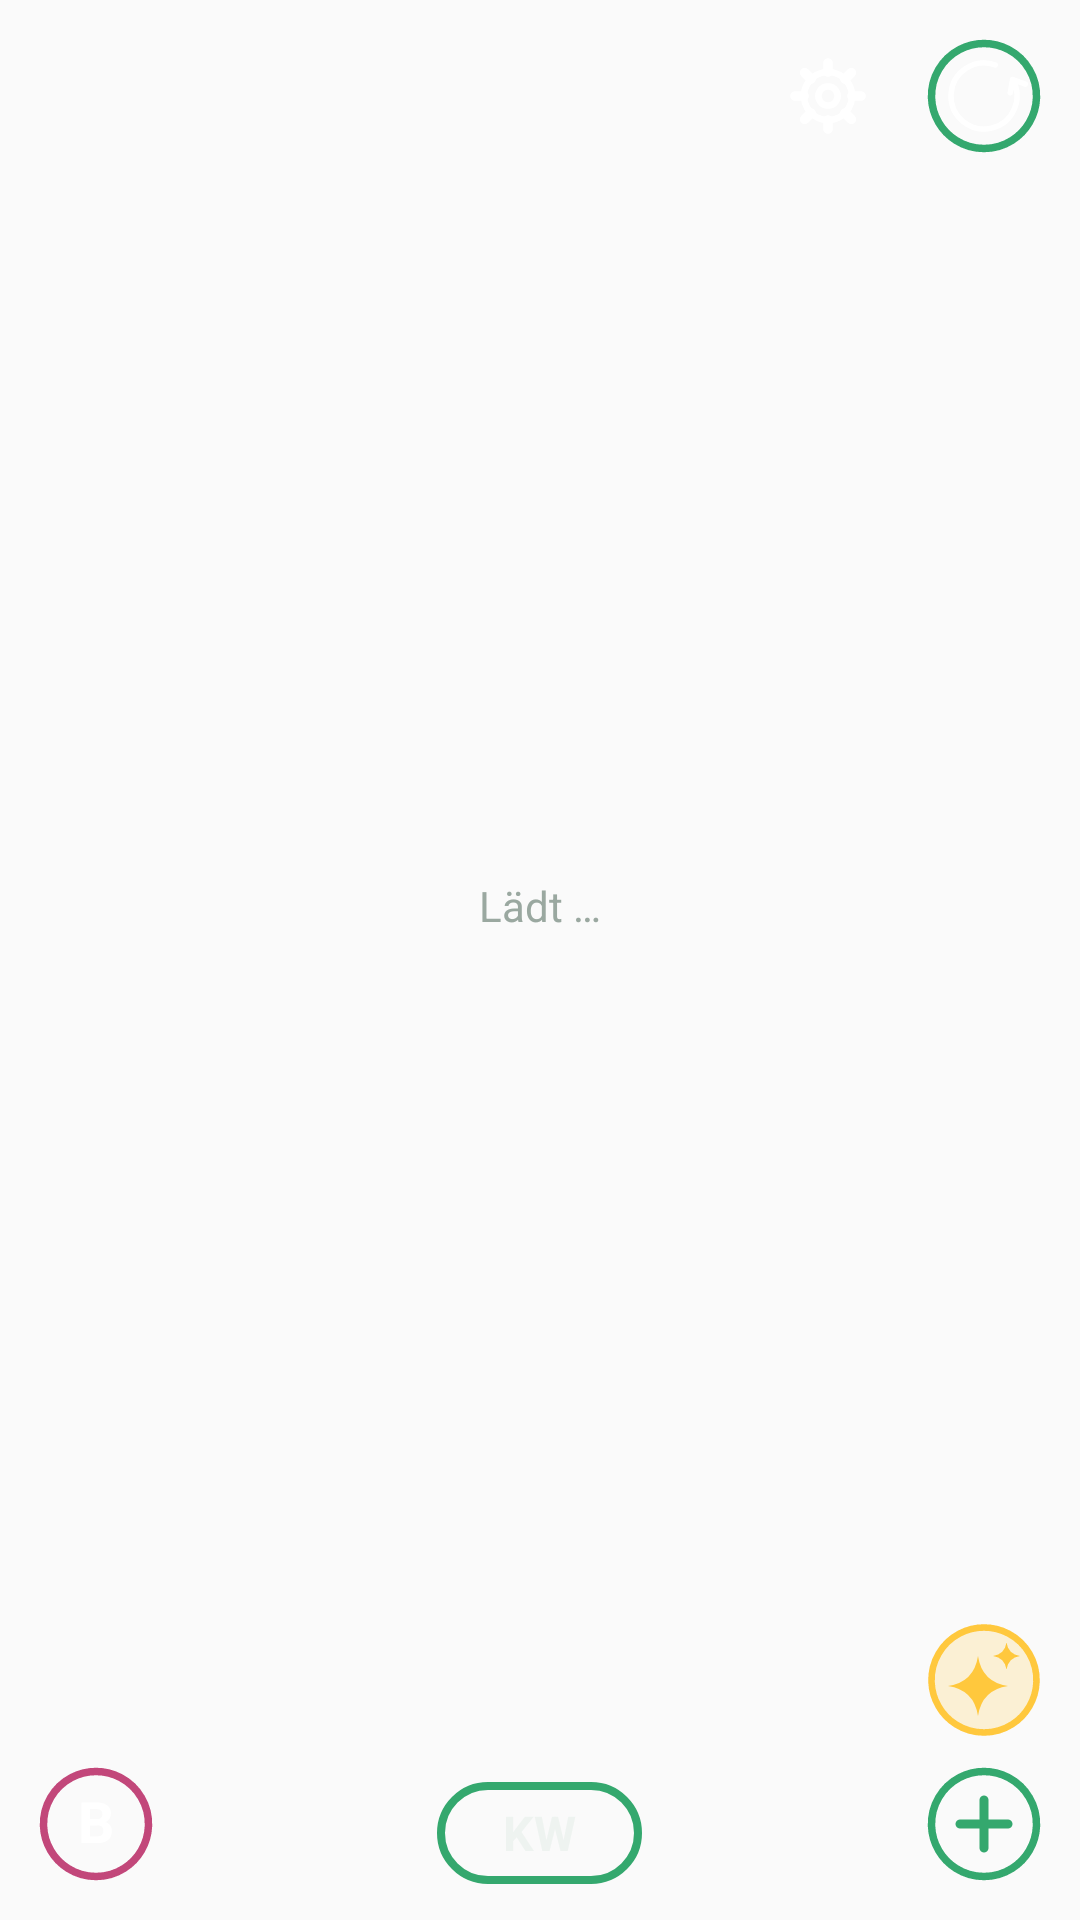

Icon bounding boxes for this 1080px×1920px phone screenshot, format (x1, y1, x2, y2):
Claude fragen: (928, 1624, 1040, 1736)
Neuer Eintrag: (927, 1767, 1041, 1881)
ring refresh: (927, 39, 1041, 153)
